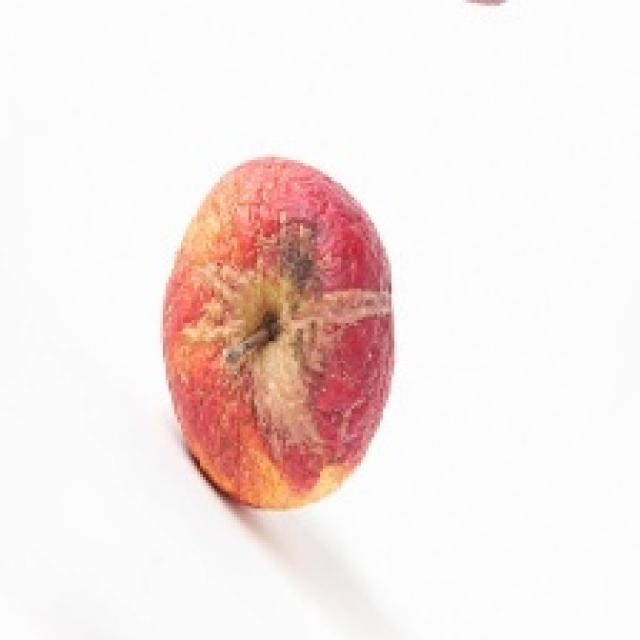rotten_apple: (166, 158, 394, 503)
